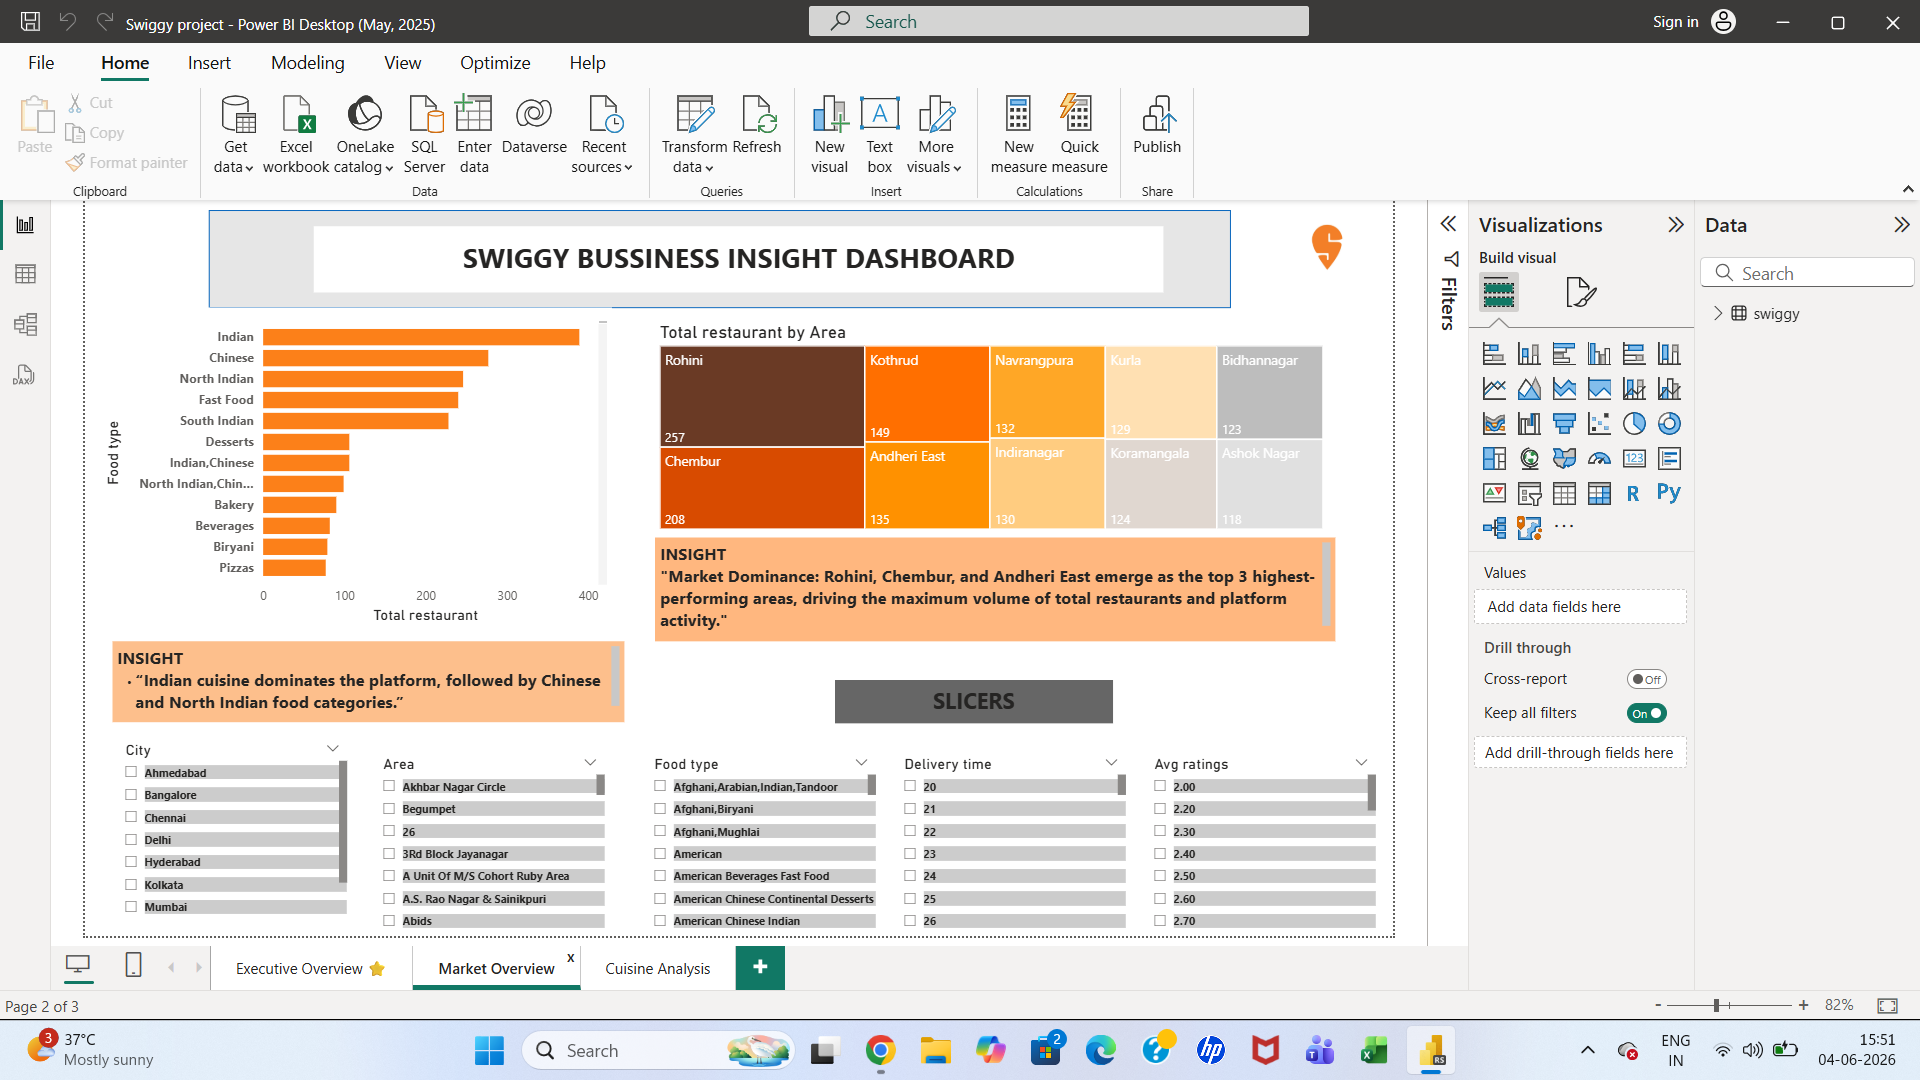

What the dashboard file says about the page in this screenshot:
{"tool":"powerbi","page":{"name":"Market Overview","canvas":[1280,720],"ordinal":1},"visuals":[{"type":"shape","box":[120.8,9.6,1000,96.1],"z":0},{"type":"textbox","box":[224.2,26.1,831.6,64.5],"z":1000},{"type":"image","box":[1149.9,0,130.4,87.8],"z":2000},{"type":"clusteredBarChart","fields":{"Category":["swiggy.Food type"],"Y":["swiggy.Total restaurant"]},"box":[15.1,105.7,500.9,314.2],"z":3000},{"type":"textbox","box":[27.4,432.2,500.9,79.6],"z":4000},{"type":"treemap","fields":{"Values":["swiggy.Total restaurant"],"Group":["swiggy.Area"]},"box":[557.1,118,658.7,208.6],"z":5000},{"type":"textbox","box":[557.1,330.7,665.5,101.5],"z":6000},{"type":"slicer","fields":{"Values":["swiggy.City"]},"box":[27.4,524.2,234.6,182.5],"z":7000},{"type":"slicer","fields":{"Values":["swiggy.Food type"]},"box":[544.8,537.9,234.6,182.5],"z":8000},{"type":"slicer","fields":{"Values":["swiggy.Avg ratings"]},"box":[1033.3,537.9,234.6,182.5],"z":9000},{"type":"slicer","fields":{"Values":["swiggy.Area"]},"box":[278.6,537.9,234.6,182.5],"z":10000},{"type":"slicer","fields":{"Values":["swiggy.Delivery time"]},"box":[789,537.9,234.6,182.5],"z":11000},{"type":"textbox","box":[734.1,469.3,271.7,42.5],"z":12000}]}

Visuals, with their boxes on the page's 1280x720 design canvas (x1, y1, x2, y2). These are canvas units, not pixel positions in the 1920x1080 screenshot, which may show the page scaled, cropped or inside an application window:
shape: bbox=(121, 10, 1121, 106)
textbox: bbox=(224, 26, 1056, 91)
image: bbox=(1150, 0, 1280, 88)
clusteredBarChart - swiggy.Food type x swiggy.Total restaurant: bbox=(15, 106, 516, 420)
textbox: bbox=(27, 432, 528, 512)
treemap - swiggy.Total restaurant x swiggy.Area: bbox=(557, 118, 1216, 327)
textbox: bbox=(557, 331, 1223, 432)
slicer - swiggy.City: bbox=(27, 524, 262, 707)
slicer - swiggy.Food type: bbox=(545, 538, 779, 720)
slicer - swiggy.Avg ratings: bbox=(1033, 538, 1268, 720)
slicer - swiggy.Area: bbox=(279, 538, 513, 720)
slicer - swiggy.Delivery time: bbox=(789, 538, 1024, 720)
textbox: bbox=(734, 469, 1006, 512)
